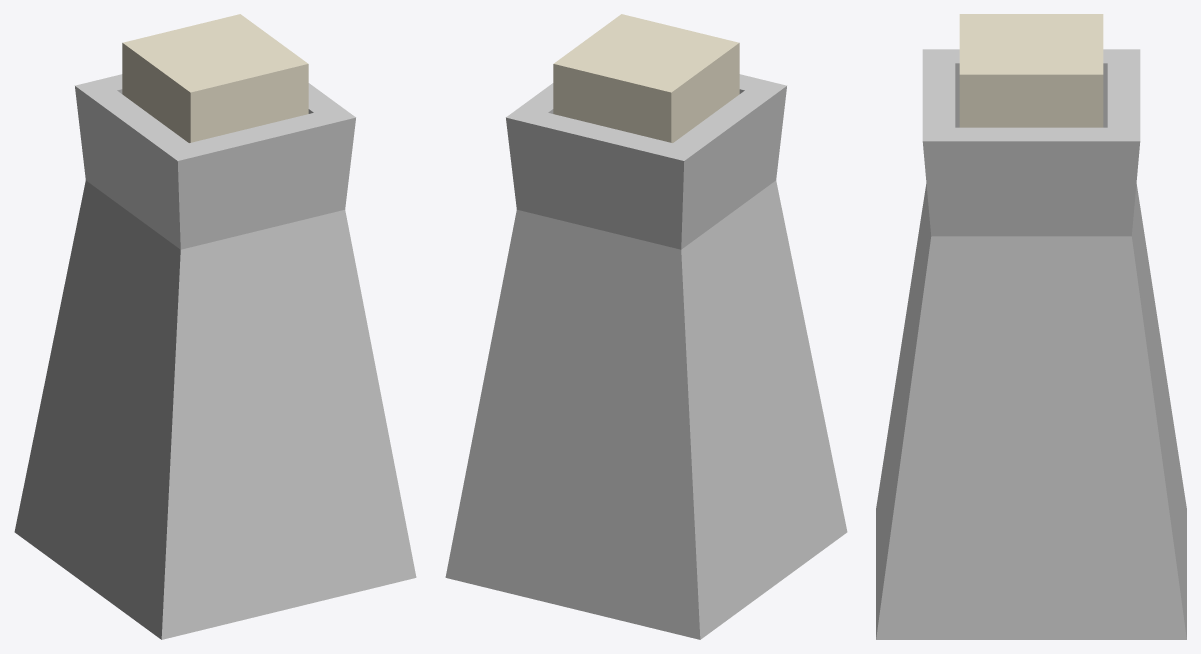
File: Vial_3.fbx
3 views of the same model, side by side, from view 1: azimuth 30°, elevation 25°; view 2: azimuth 150°, elevation 25°; view 3: azimuth 270°, elevation 25° (orthographic). The views are drawn at different scales.
Visible parts, largest first — view 1: ManaPotion; view 2: ManaPotion; view 3: ManaPotion.
Boxes of the visible parts, left/top/right/bottom form: ManaPotion: left=14, top=14, right=416, bottom=639; ManaPotion: left=445, top=14, right=847, bottom=639; ManaPotion: left=876, top=14, right=1186, bottom=639.
Size of the model in its own units: 9 by 16.93 by 9.
